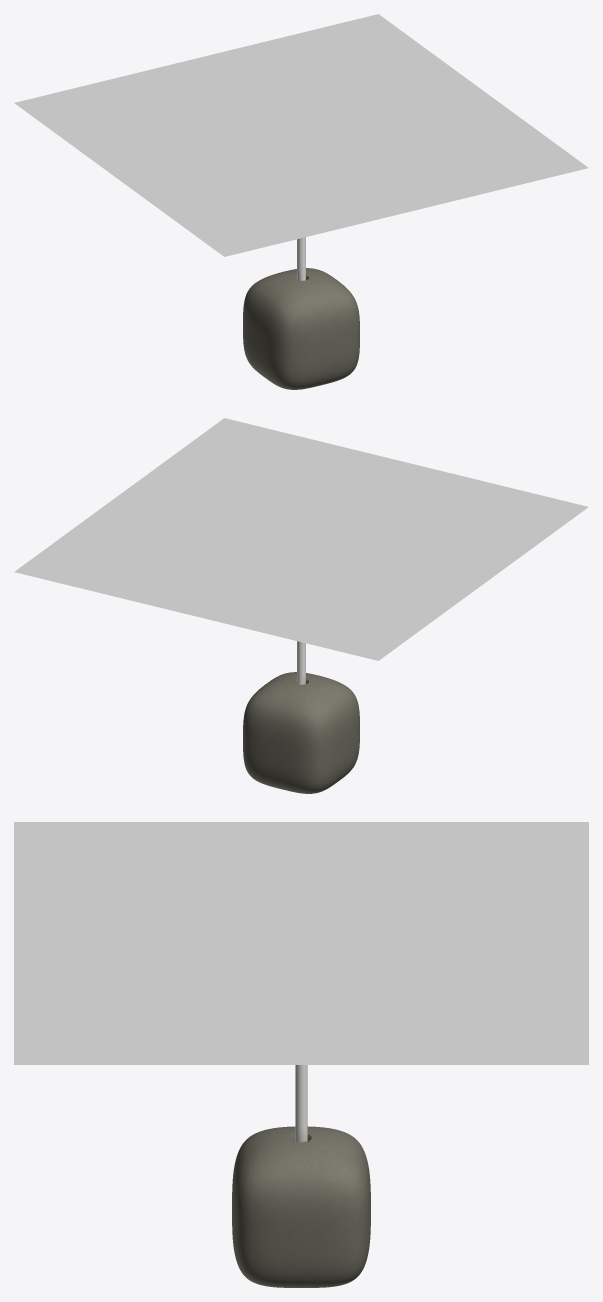
Rendered from opeq.glb.
The picture shows the model from 3 angles, top to bottom: view 1: azimuth 30°, elevation 25°; view 2: azimuth 150°, elevation 25°; view 3: azimuth 270°, elevation 25°; orthographic projection. The views are drawn at different scales.
Visible parts, largest first — view 1: Holo; view 2: Holo; view 3: Holo.
Boxes of the visible parts, left/top/right/bottom form: Holo: left=14, top=14, right=588, bottom=389; Holo: left=14, top=418, right=588, bottom=793; Holo: left=14, top=822, right=588, bottom=1287.
Size of the model in its own units: 0.331 by 0.2069 by 0.331.
Materials: 3 (1 with a texture image).
